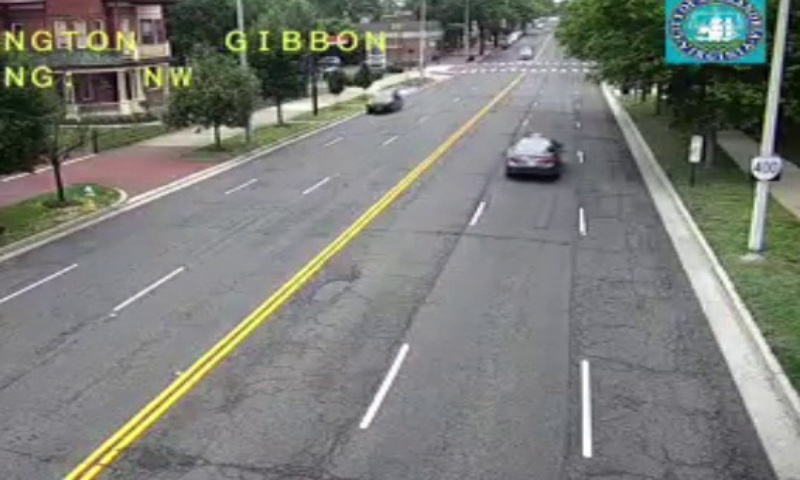car: (505, 137, 557, 175)
